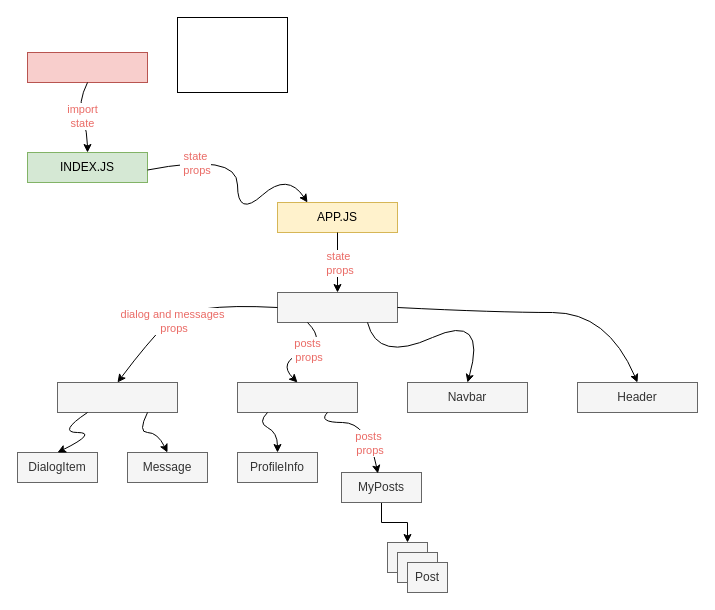
Some shapes in this 715 by 610 pixel diagram are drawn without their labels. Here are the shapes that lost their labels. From the top down, the centre of each, then its label:
At (87,67): "STATE.JS".
At (232,54): "let state ={ messsages: [ ], posts:[ ], dialogs:[ ] }".
At (337,307): "Bowser Route".
At (117,397): "Dialogs".
At (297,397): "Profile".
